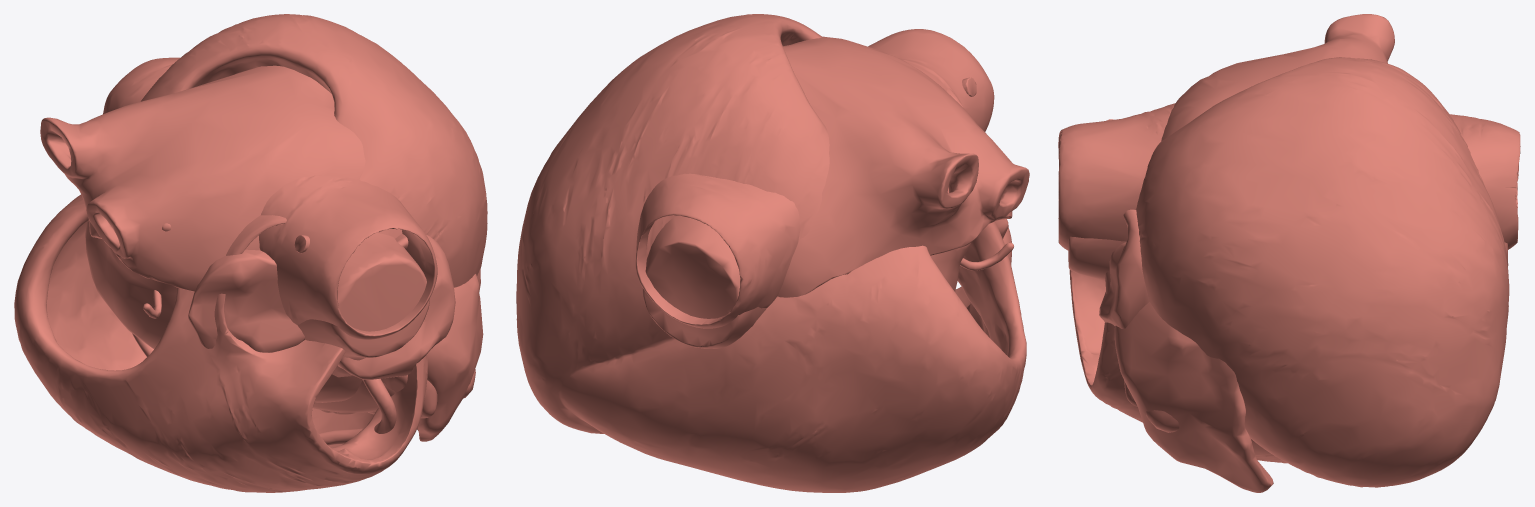
File: atlas_heart.glb
The picture shows the model from 3 angles, left to right: view 1: azimuth 30°, elevation 25°; view 2: azimuth 150°, elevation 25°; view 3: azimuth 270°, elevation 25°; orthographic projection. The views are drawn at different scales.
Visible parts, largest first — view 1: wall of ventricle, wall of left atrium, wall of right atrium, cavity of right ventricle, cavity of right atrium, cavity of left ventricle, trunk of right coronary artery; view 2: wall of ventricle, wall of left atrium, wall of right atrium, cavity of right atrium, cavity of right ventricle; view 3: wall of ventricle, wall of left atrium, wall of right atrium, cavity of right ventricle, cavity of right atrium, cavity of left atrium.
Part boxes in pixels (x1=…): wall of ventricle: x1=14, y1=14, x2=487, y2=492; wall of left atrium: x1=40, y1=65, x2=483, y2=441; wall of right atrium: x1=103, y1=57, x2=437, y2=418; cavity of right ventricle: x1=85, y1=221, x2=455, y2=402; cavity of right atrium: x1=297, y1=233, x2=429, y2=412; cavity of left ventricle: x1=188, y1=249, x2=304, y2=352; trunk of right coronary artery: x1=132, y1=333, x2=396, y2=445; wall of ventricle: x1=516, y1=14, x2=1026, y2=492; wall of left atrium: x1=777, y1=36, x2=1029, y2=297; wall of right atrium: x1=635, y1=29, x2=994, y2=328; cavity of right atrium: x1=642, y1=215, x2=766, y2=348; cavity of right ventricle: x1=931, y1=243, x2=970, y2=291; wall of ventricle: x1=1069, y1=57, x2=1509, y2=487; wall of left atrium: x1=1114, y1=14, x2=1394, y2=492; wall of right atrium: x1=1058, y1=103, x2=1520, y2=406; cavity of right ventricle: x1=1099, y1=209, x2=1149, y2=328; cavity of right atrium: x1=1068, y1=236, x2=1508, y2=280; cavity of left atrium: x1=1146, y1=410, x2=1179, y2=432.
Bounding box in the file's own units: 3347395 × 3063397 × 3159396.
